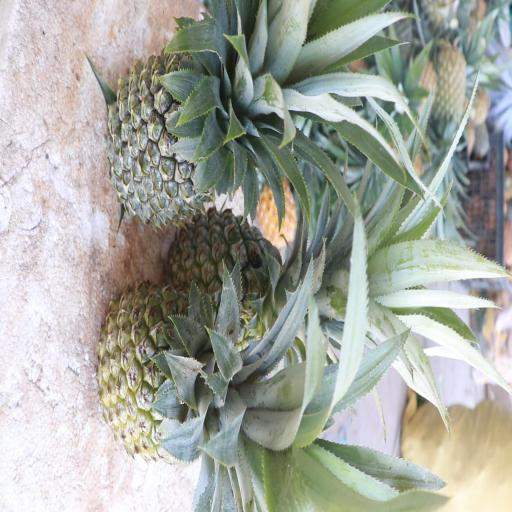------------------------------: (94, 277, 328, 478), (162, 205, 350, 364)
